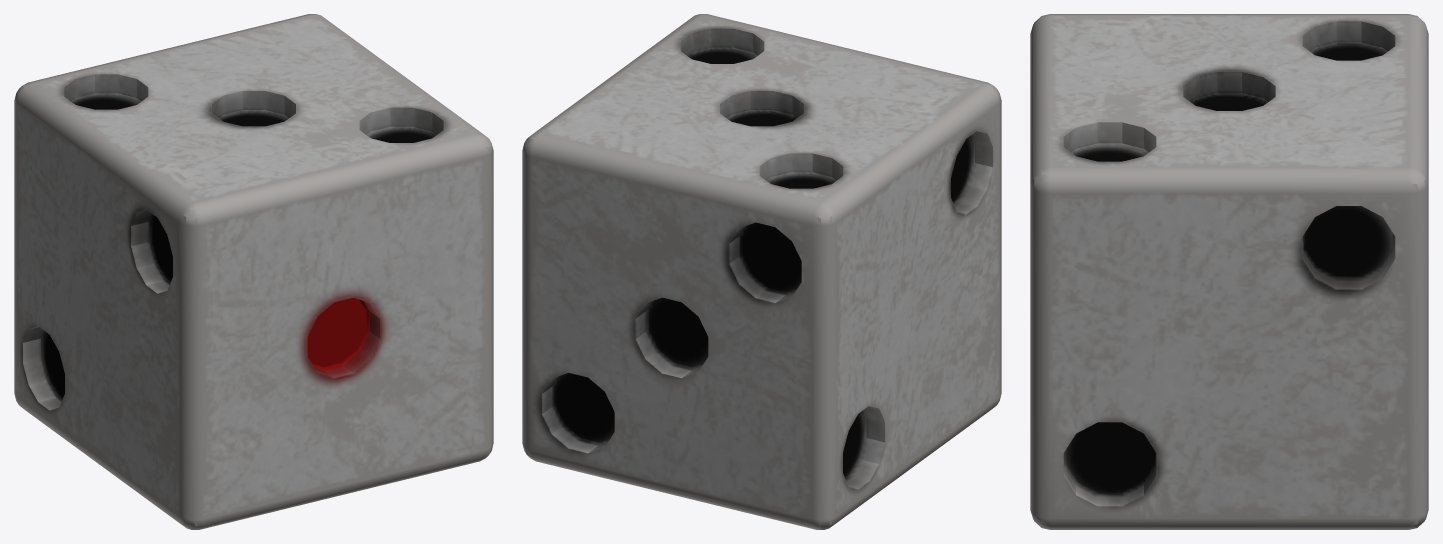
File: さいころ(w_123).fbx
3 renders of one model, left to right at view 1: azimuth 30°, elevation 25°; view 2: azimuth 150°, elevation 25°; view 3: azimuth 270°, elevation 25°, orthographic. The views are drawn at different scales.
Parts seen in each view (by area): view 1: polySurface6; view 2: polySurface6; view 3: polySurface6.
Boxes of the visible parts, x1,y1,x2,y2 form: polySurface6: (14, 14, 493, 529); polySurface6: (522, 14, 1001, 529); polySurface6: (1030, 14, 1428, 529).
Bounding box in the file's own units: 1 × 1 × 1.
1 material, 1 textured.
